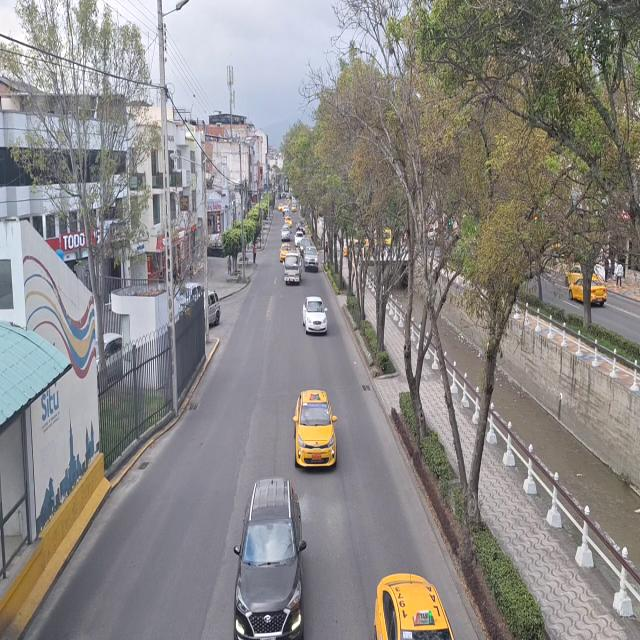SED: (293, 392, 334, 468), (303, 298, 326, 334)
SUV: (232, 476, 304, 639)
